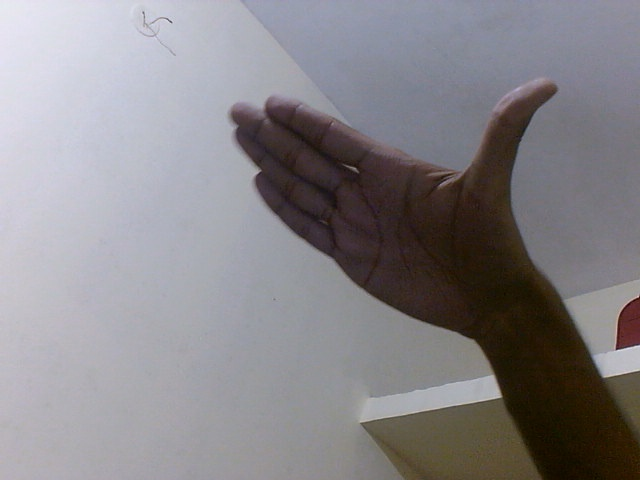hand: (224, 74, 562, 360)
